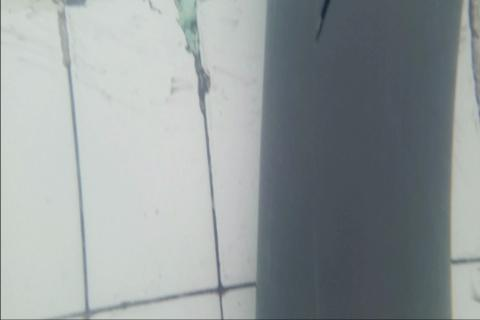keretakan: (313, 0, 332, 45)
